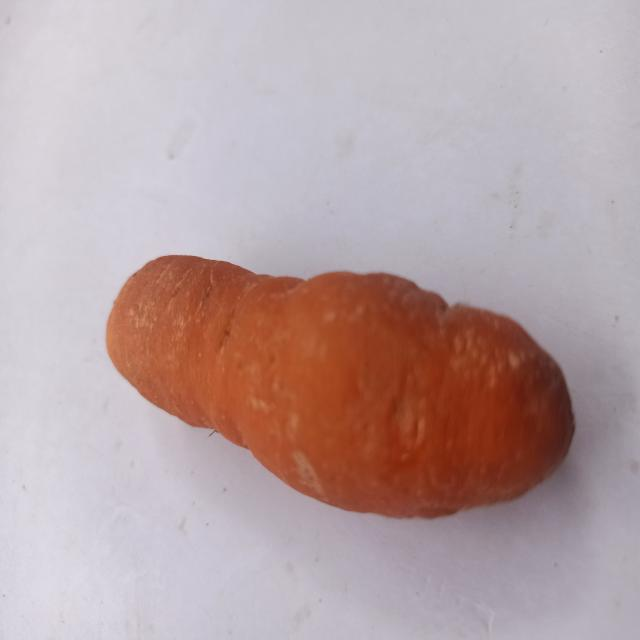Carrot: (96, 235, 596, 542)
